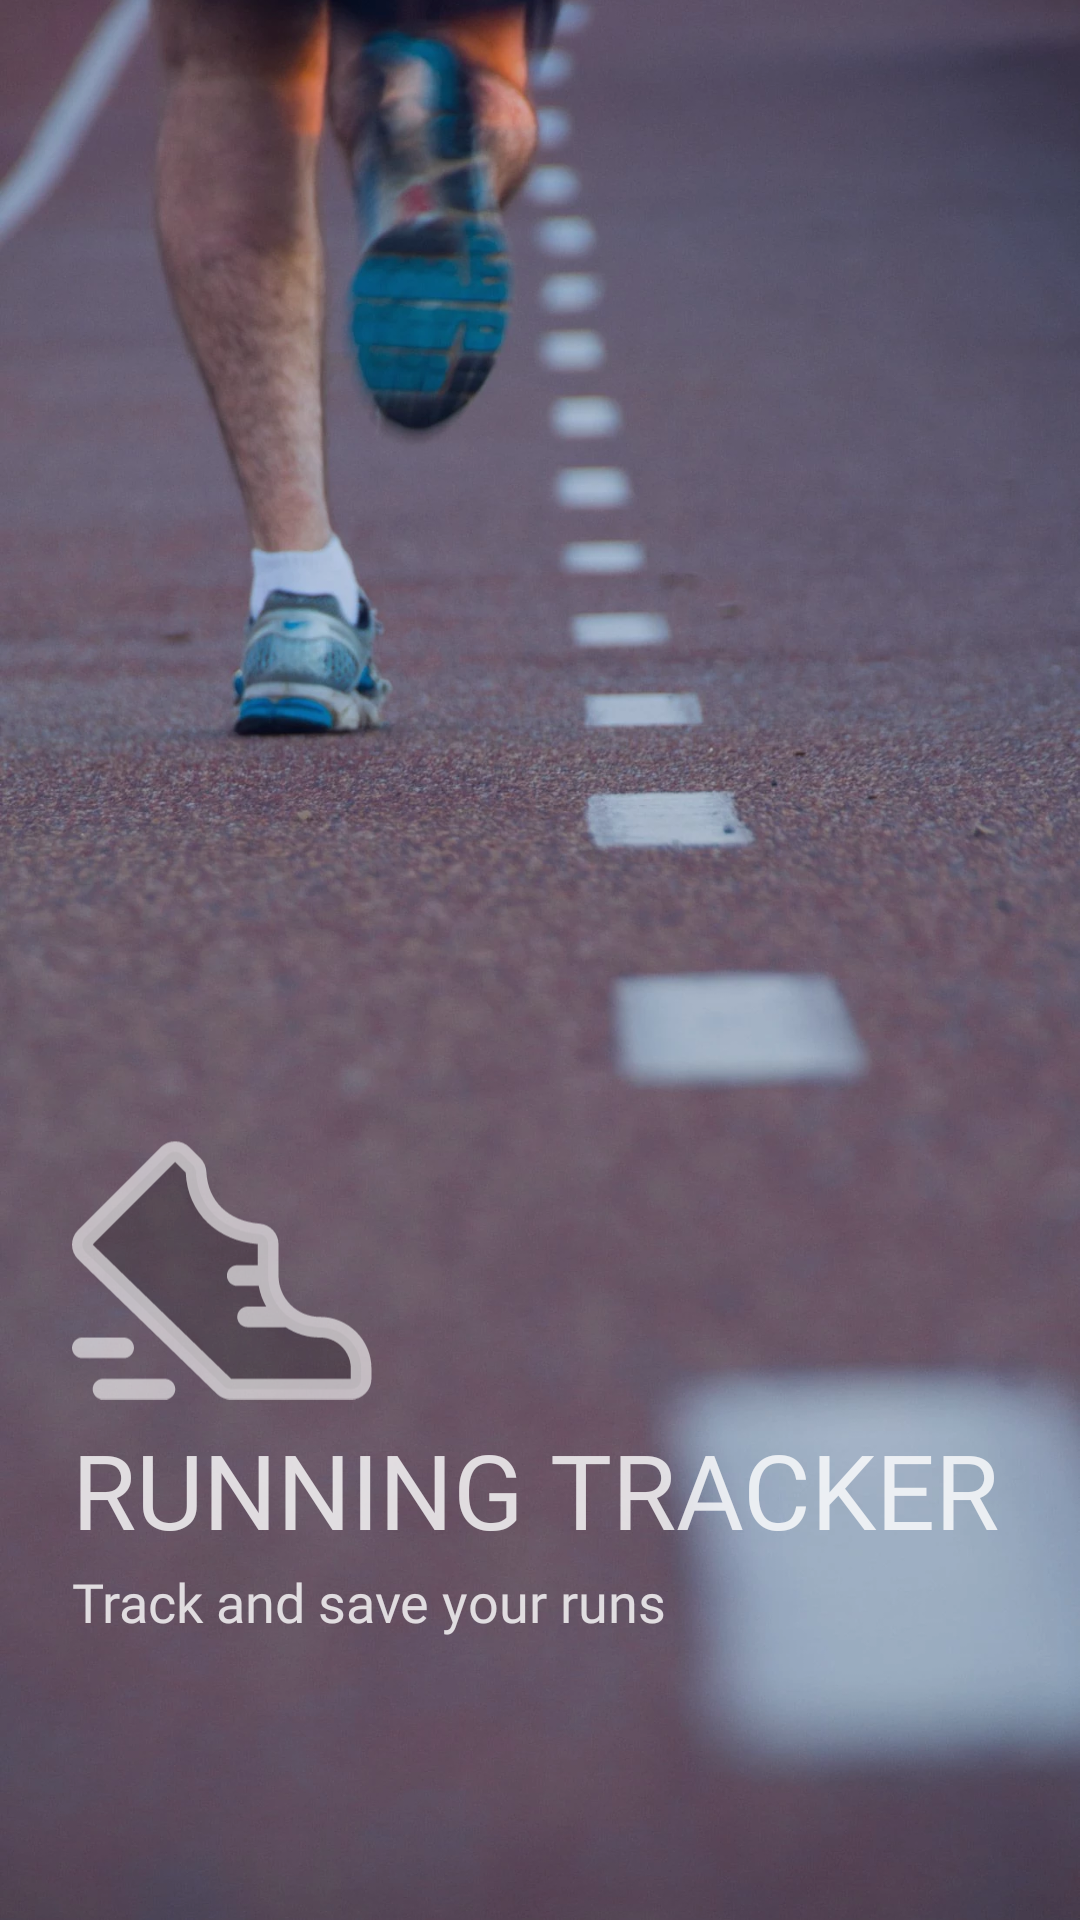

Screen size 1080×1920. Icon name, then its box in pixels as detection(x1, y1, x2, y2):
sneaker: detection(72, 1141, 372, 1400)
